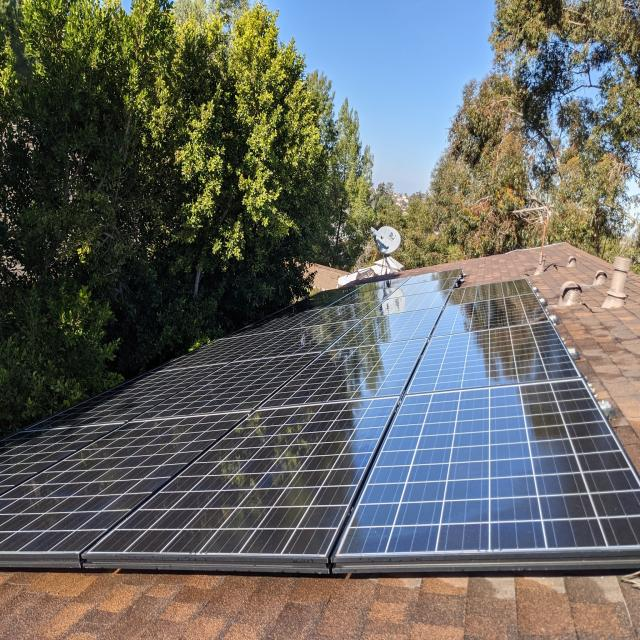clean-solar-panel: (0, 268, 640, 573)
